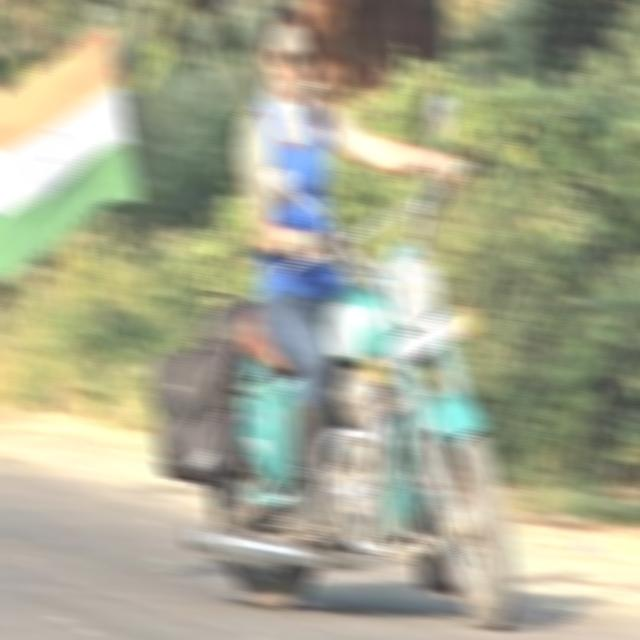Without Helmet: (254, 0, 322, 95)
